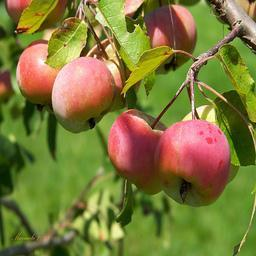apple: (153, 117, 230, 207), (107, 108, 169, 194), (51, 58, 117, 131), (143, 5, 198, 71), (18, 39, 69, 106)
